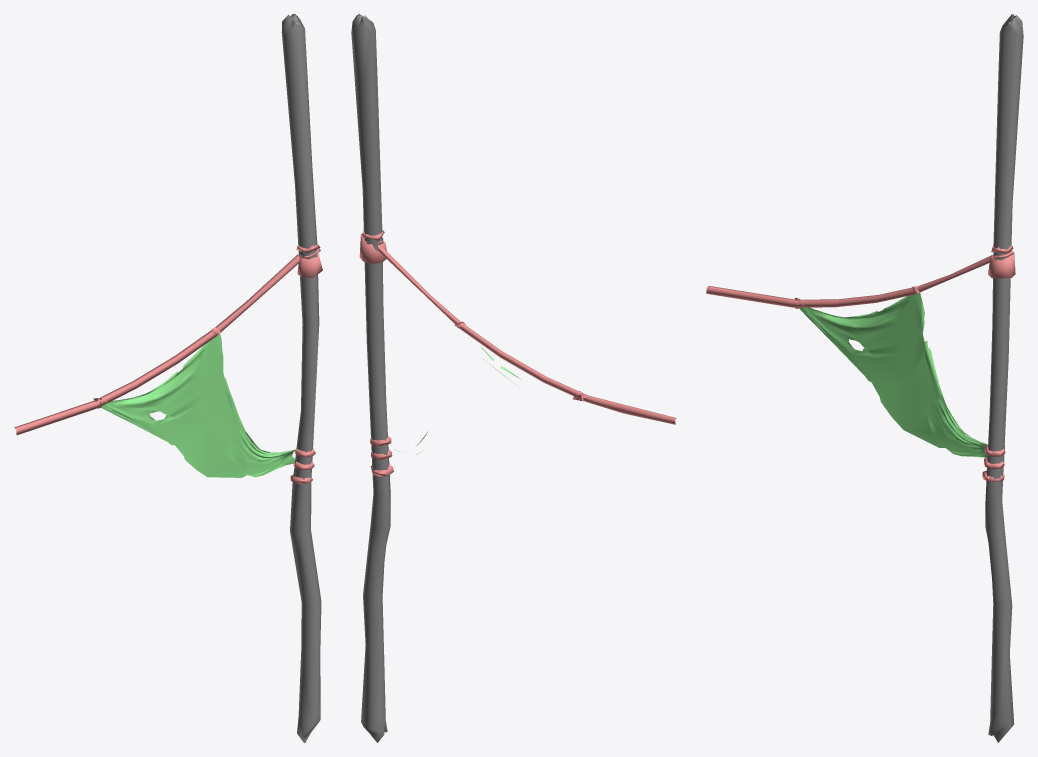
The model's file is palisade_generic_arena_C.gltf.
3 views of the same model, side by side, from view 1: azimuth 30°, elevation 25°; view 2: azimuth 150°, elevation 25°; view 3: azimuth 330°, elevation 25° (orthographic). The views are drawn at different scales.
Visible parts, largest first — view 1: palisade_generic_arena_C; view 2: palisade_generic_arena_C; view 3: palisade_generic_arena_C.
Part boxes in pixels (box(x1,y1,x2,y2)): palisade_generic_arena_C: box(14, 14, 322, 742); palisade_generic_arena_C: box(351, 14, 676, 742); palisade_generic_arena_C: box(706, 14, 1023, 742).
Size of the model in its own units: 1.68 by 3.77 by 0.2447.
